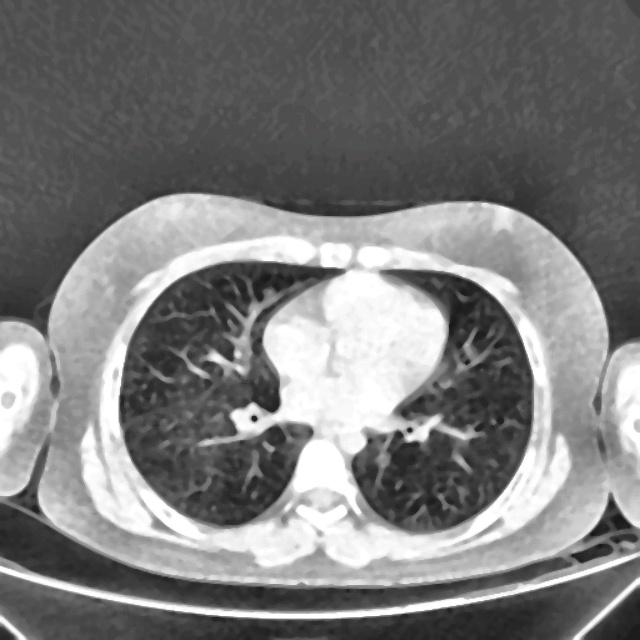covid: (7, 192, 633, 588)
